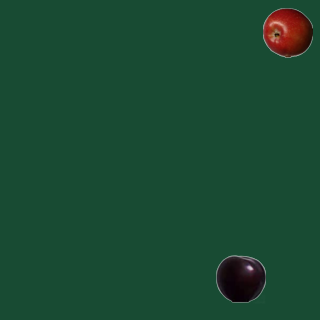Apple Braeburn: (262, 7, 312, 57)
Cherry Wax Black: (215, 253, 265, 303)
